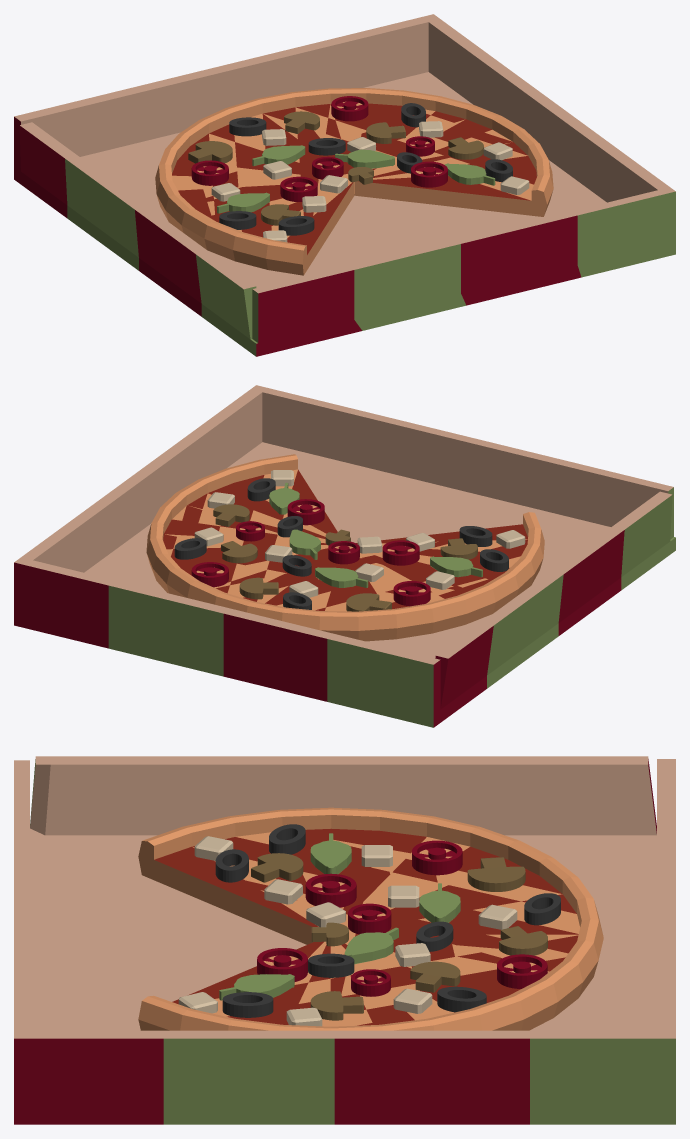
File: pizzabox_3_partyassets.fbx
3 views of the same model, one above another, from view 1: azimuth 30°, elevation 25°; view 2: azimuth 150°, elevation 25°; view 3: azimuth 270°, elevation 25° (orthographic). The views are drawn at different scales.
Parts seen in each view (by area): view 1: pizzabox_3_partyassets, Cube.007, Cube.022, Cube.025, Cube.026, Cube.027, Cube.150, Cube.024; view 2: pizzabox_3_partyassets, Cube.022, Cube.007, Cube.025, Cube.026, Cube.150, Cube.027, Cube.024; view 3: pizzabox_3_partyassets, Cube.007, Cube.025, Cube.022, Cube.026, Cube.027, Cube.024, Cube.150.
Part boxes in pixels (left/top/right/bottom): pizzabox_3_partyassets: left=14, top=14, right=675, bottom=293; Cube.007: left=14, top=96, right=581, bottom=356; Cube.022: left=65, top=145, right=675, bottom=356; Cube.025: left=155, top=88, right=553, bottom=275; Cube.026: left=172, top=103, right=536, bottom=254; Cube.027: left=219, top=103, right=512, bottom=235; Cube.150: left=211, top=121, right=529, bottom=242; Cube.024: left=188, top=111, right=483, bottom=225; pizzabox_3_partyassets: left=14, top=385, right=673, bottom=664; Cube.022: left=108, top=482, right=675, bottom=727; Cube.007: left=14, top=499, right=624, bottom=727; Cube.025: left=146, top=454, right=544, bottom=641; Cube.026: left=163, top=469, right=527, bottom=610; Cube.150: left=194, top=470, right=525, bottom=597; Cube.027: left=174, top=478, right=508, bottom=609; Cube.024: left=213, top=504, right=477, bottom=611; pizzabox_3_partyassets: left=14, top=756, right=675, bottom=1038; Cube.007: left=14, top=759, right=656, bottom=1124; Cube.025: left=138, top=807, right=603, bottom=1030; Cube.022: left=30, top=759, right=675, bottom=1124; Cube.026: left=154, top=828, right=578, bottom=1025; Cube.027: left=215, top=824, right=560, bottom=1017; Cube.024: left=251, top=853, right=547, bottom=1020; Cube.150: left=178, top=836, right=517, bottom=1026.
Size of the model in its own units: 46.52 by 6.6 by 46.01.
